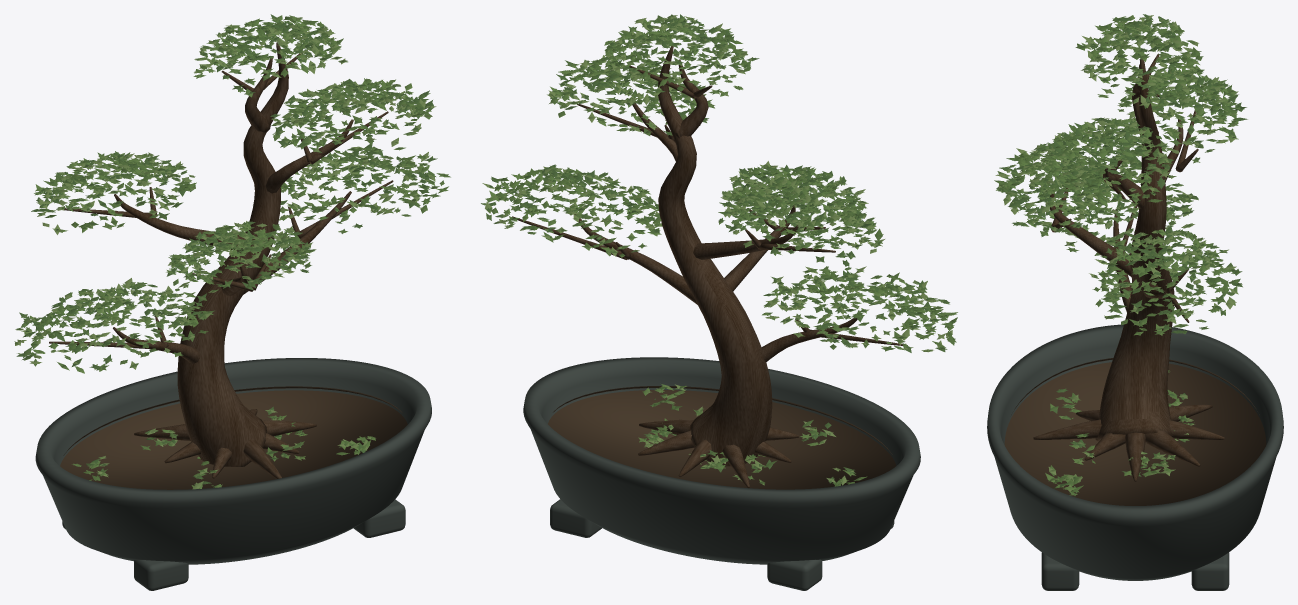
File: japones_bonsai.glb
The picture shows the model from 3 angles, left to right: view 1: azimuth 30°, elevation 25°; view 2: azimuth 150°, elevation 25°; view 3: azimuth 270°, elevation 25°; orthographic projection. The views are drawn at different scales.
Visible parts, largest first — view 1: japones_bonsai; view 2: japones_bonsai; view 3: japones_bonsai.
Part boxes in pixels (bbox=[...]): japones_bonsai: bbox=[14, 14, 450, 590]; japones_bonsai: bbox=[481, 14, 957, 590]; japones_bonsai: bbox=[987, 14, 1283, 590].
Bounding box in the file's own units: 0.4278 × 0.4611 × 0.2374.
Materials: 7 (1 with a texture image).
